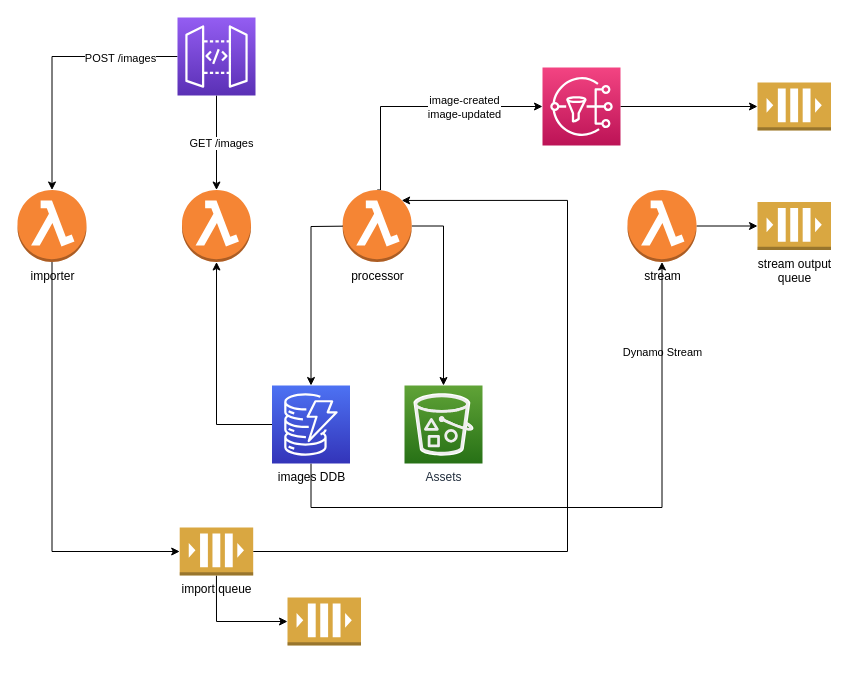
Image size: 849x684. Some labels were removed from this diagram. Each missing label, with the centre of its shape:
"import DLQ" belongs at point (323, 621).
"query" belongs at point (216, 225).
"test queue" belongs at point (793, 106).
